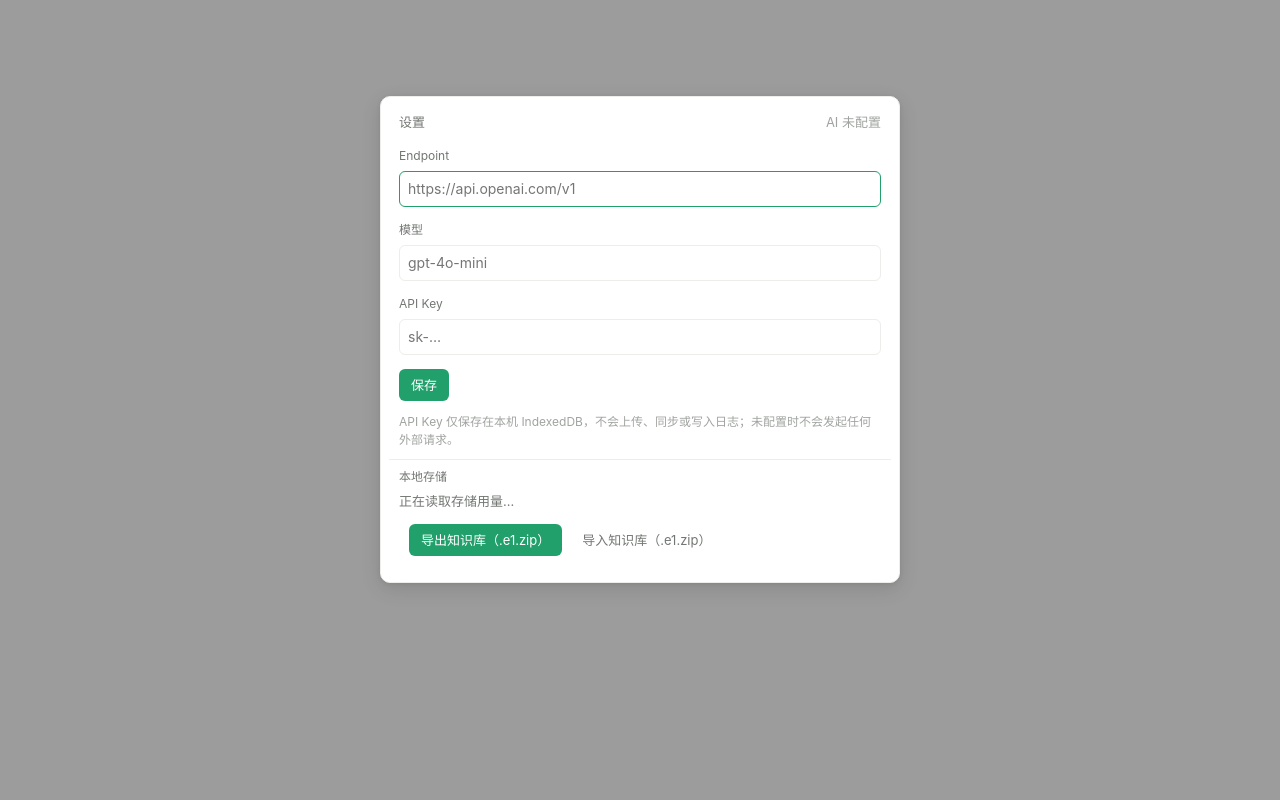
Scenario: SettingsPanel 知识库导出（R005 阶段 7A） › 点击导出触发下载并展示摘要
Click the button "导出知识库（.e1.zip）".
click(486, 540)  # box [409,524,562,556]
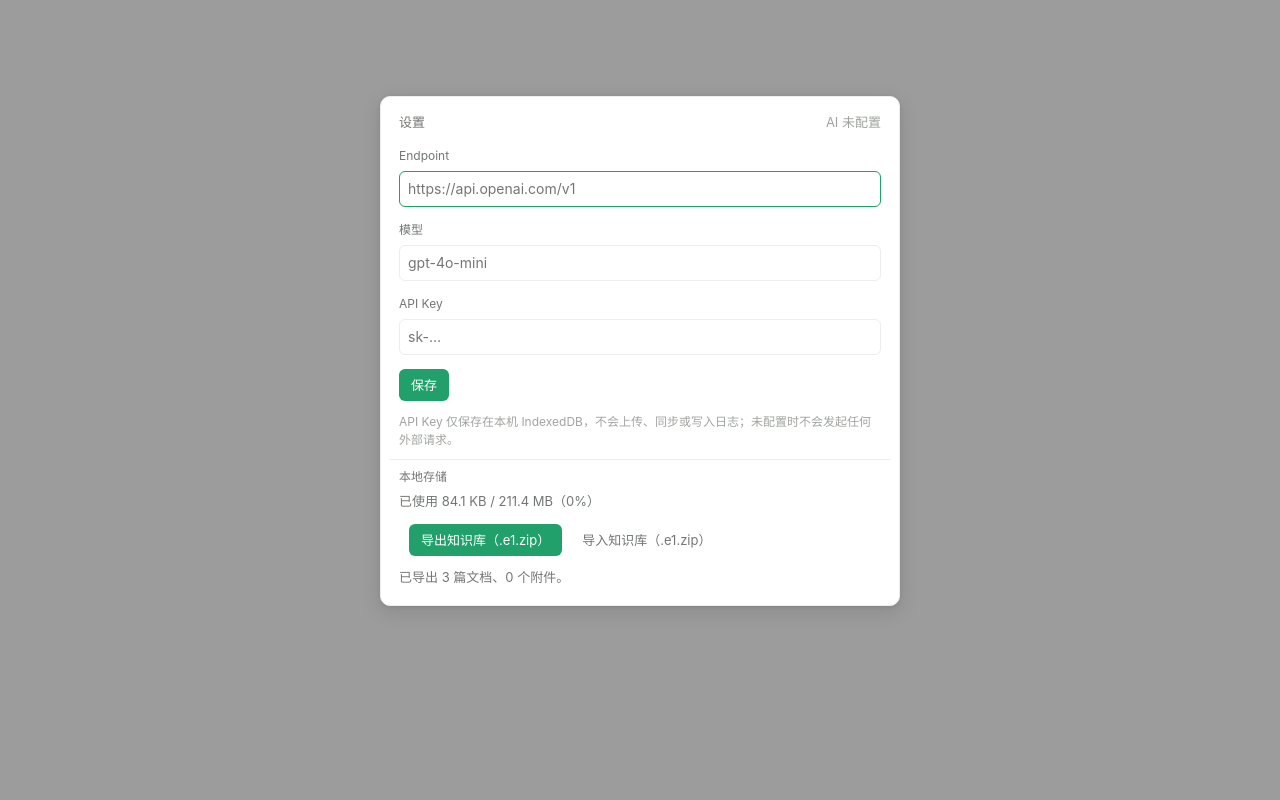
Check: the text "已导出 3 篇文档、0 个附件。" is shown, box [399,568,569,584]
